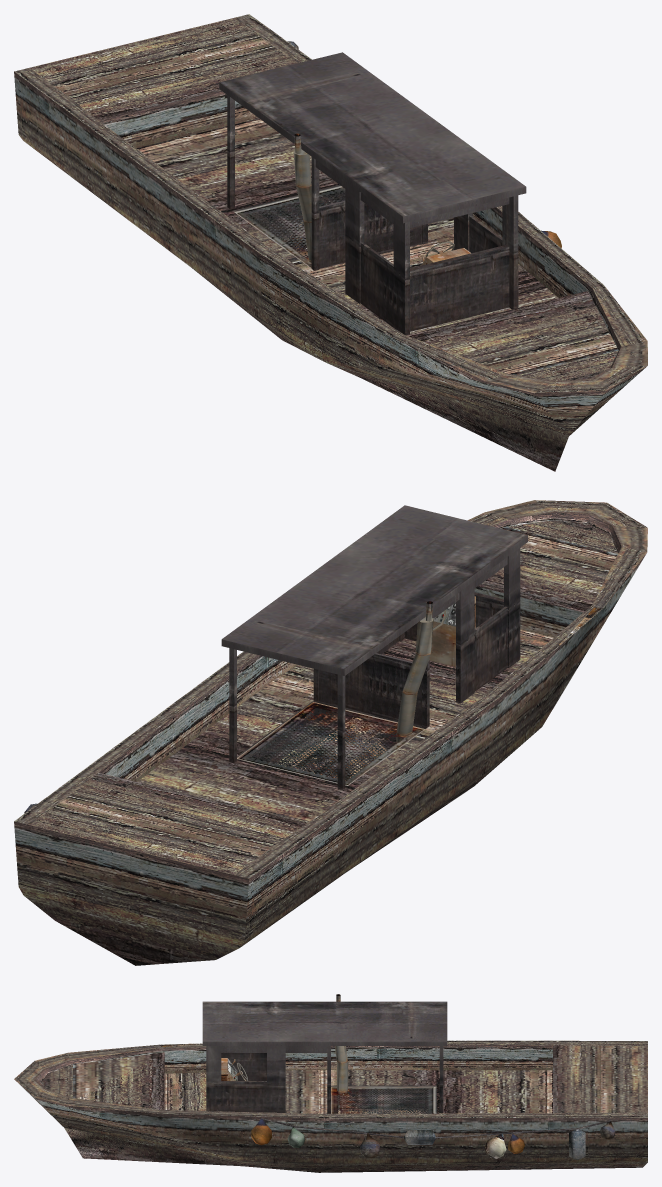
File: eboat01.glb
The picture shows the model from 3 angles, top to bottom: view 1: azimuth 30°, elevation 25°; view 2: azimuth 150°, elevation 25°; view 3: azimuth 270°, elevation 25°; orthographic projection. The views are drawn at different scales.
Visible parts, largest first — view 1: _eboat01; view 2: _eboat01; view 3: _eboat01.
Part boxes in pixels (x1,y1,x2,y2): _eboat01: (14, 14, 647, 471); _eboat01: (14, 500, 647, 965); _eboat01: (14, 994, 647, 1172).
Size of the model in its own units: 6.74 by 5.2 by 21.06.
2 materials, 2 textured.
